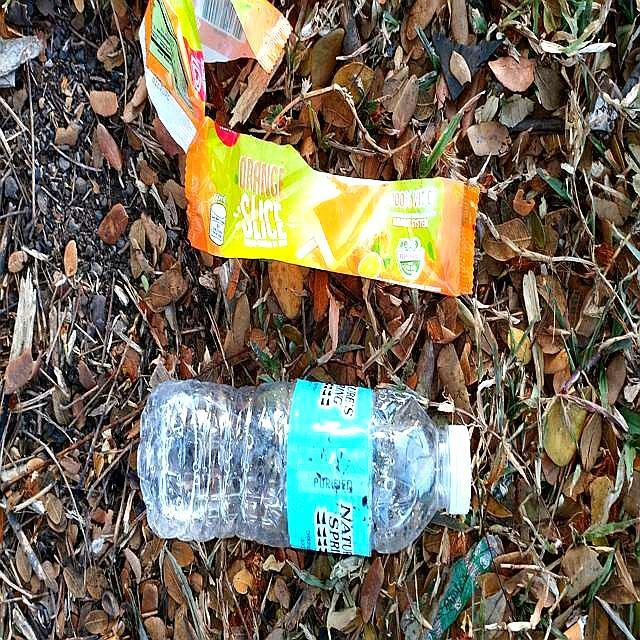Non-biodegradable: (140, 1, 482, 302), (138, 378, 473, 558)
